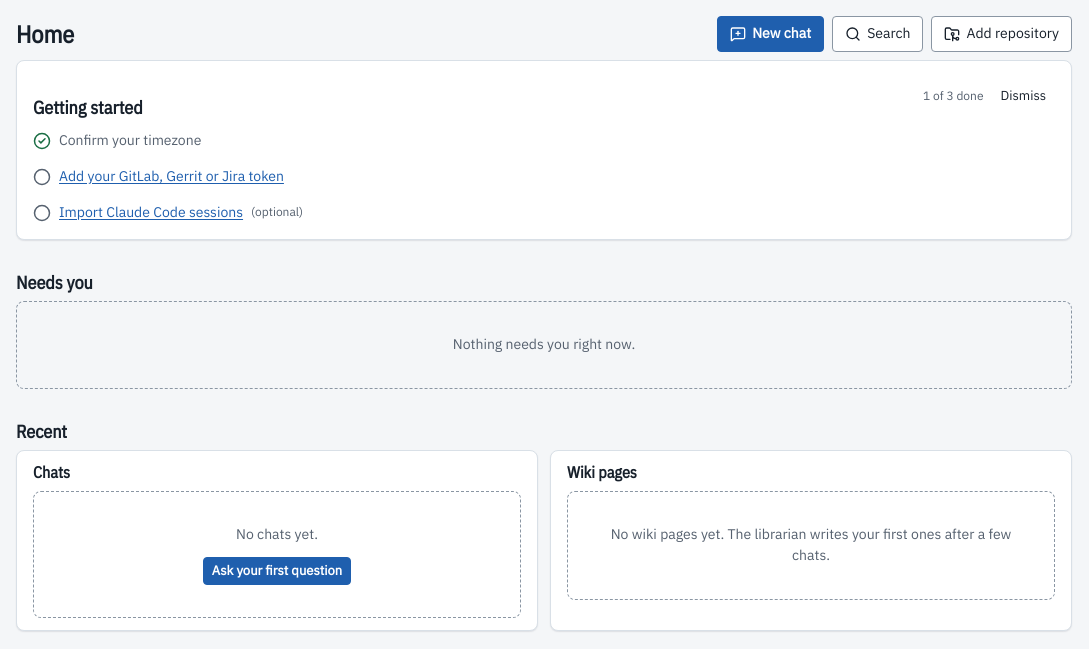
Test: Home (07 §4.1) › says when nothing needs you, hides an empty Running now and lets the checklist be dismissed
Check: the text "Nothing needs you right now." is shown, box [453, 334, 635, 356]
Click the button "Dismiss". click: (1023, 96)
box: [992, 82, 1055, 110]
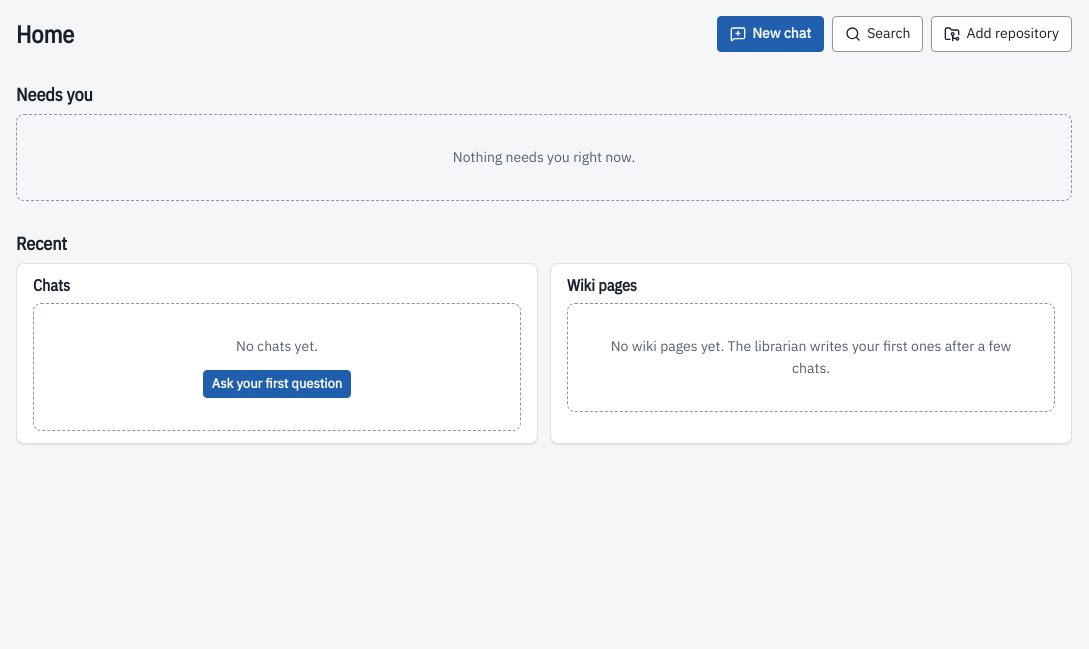
Check: the heading "Getting started" is gone
